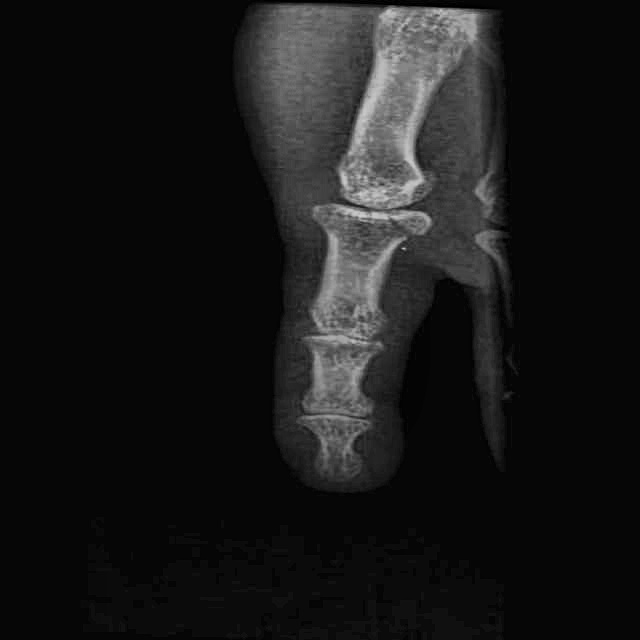Greenstick: (329, 192, 455, 254)
